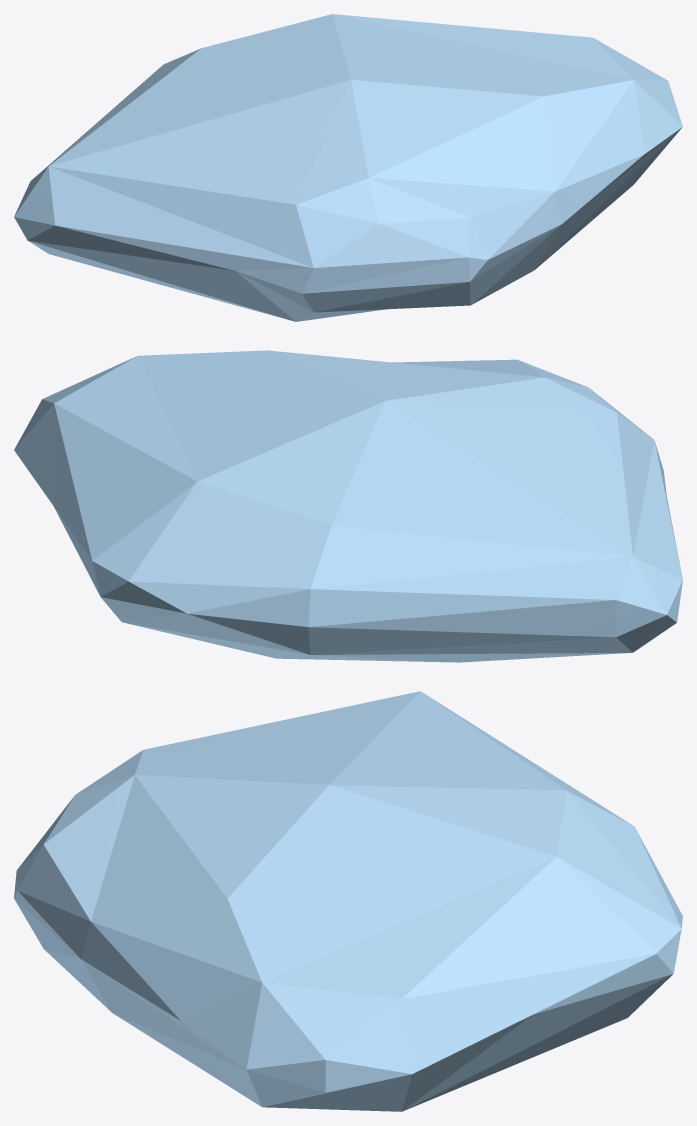
The model's file is Rock 12.FBX.
The picture shows the model from 3 angles, top to bottom: view 1: azimuth 30°, elevation 25°; view 2: azimuth 150°, elevation 25°; view 3: azimuth 270°, elevation 25°; orthographic projection. The views are drawn at different scales.
Parts seen in each view (by area): view 1: Box001; view 2: Box001; view 3: Box001.
Part boxes in pixels (<box>): Box001: <box>14,14,682,321</box>; Box001: <box>14,350,682,662</box>; Box001: <box>14,691,682,1111</box>.
Bounding box in the file's own units: 50.7 × 14.77 × 40.02.
